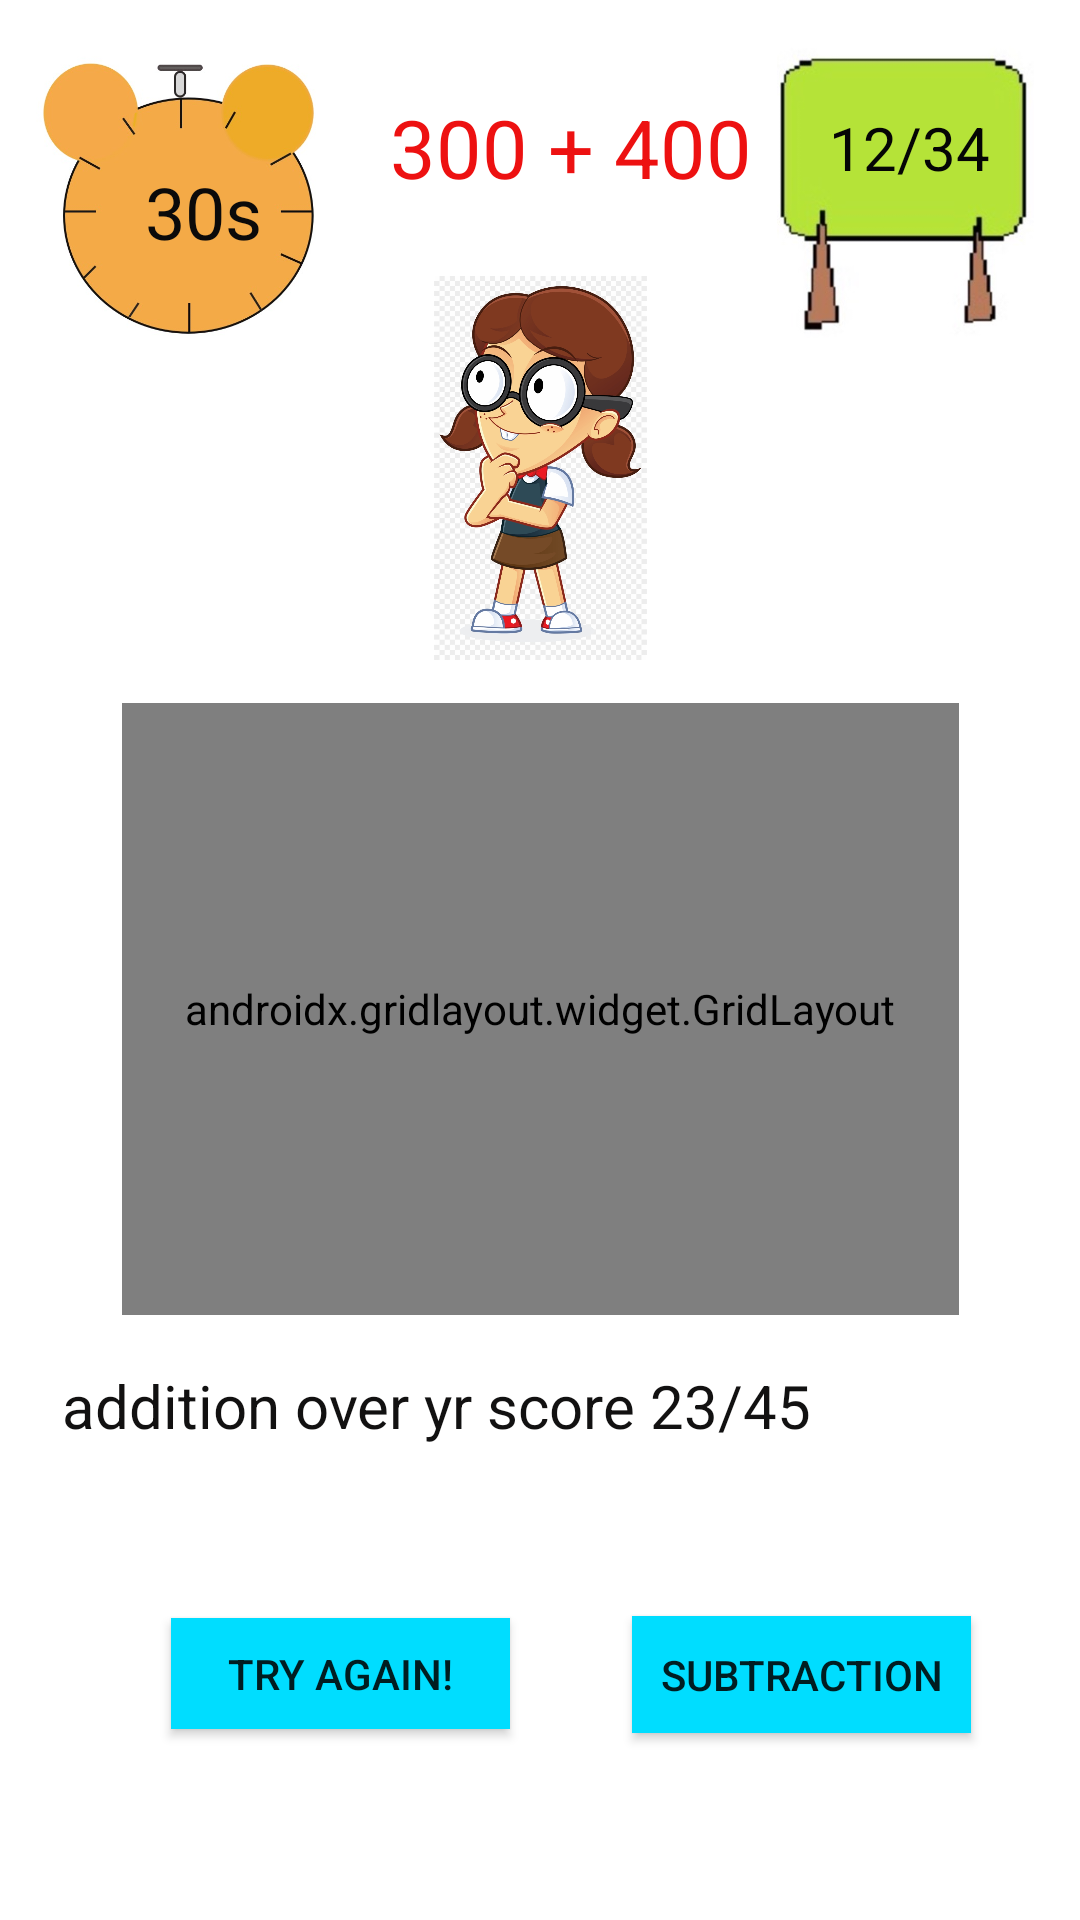

Icon click points for this 1080px×1920px phone screenshot, format [x,y]:
clock: [178,198]
